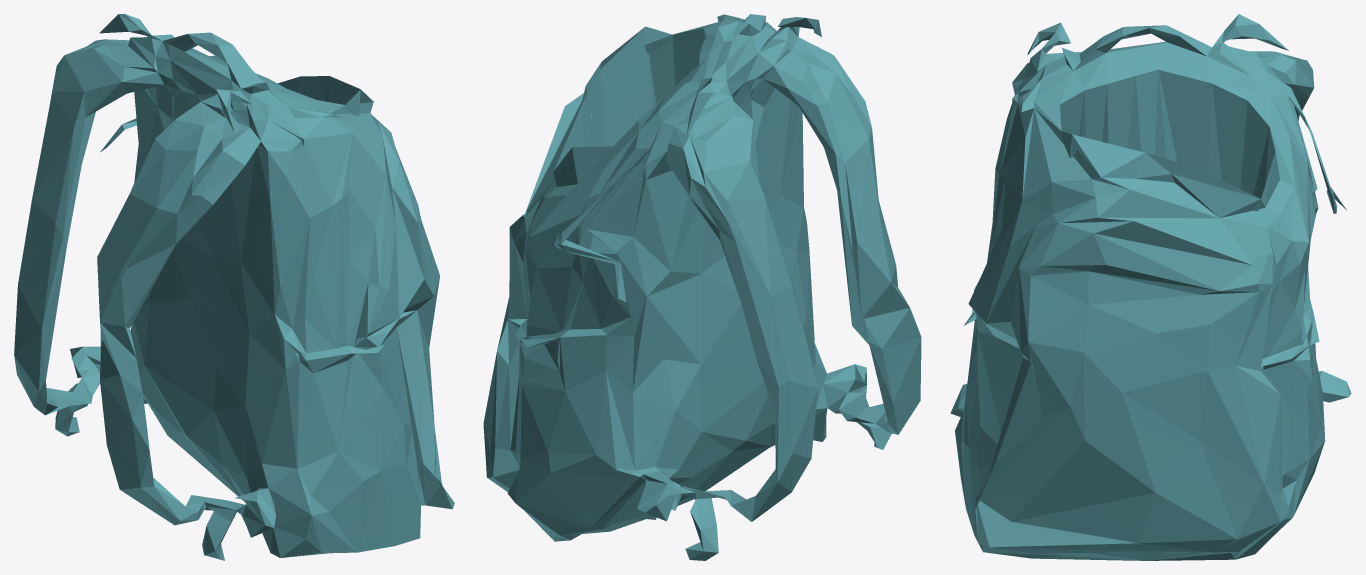
3 renders of one model, left to right at view 1: azimuth 30°, elevation 25°; view 2: azimuth 150°, elevation 25°; view 3: azimuth 270°, elevation 25°, orthographic. The views are drawn at different scales.
Parts seen in each view (by area): view 1: high_poly; view 2: high_poly; view 3: high_poly.
Boxes of the visible parts, x1,y1,x2,y2 form: high_poly: [14, 14, 454, 560]; high_poly: [483, 14, 921, 560]; high_poly: [950, 14, 1351, 560].
Bounding box in the file's own units: 0.3444 × 0.5013 × 0.3794.
